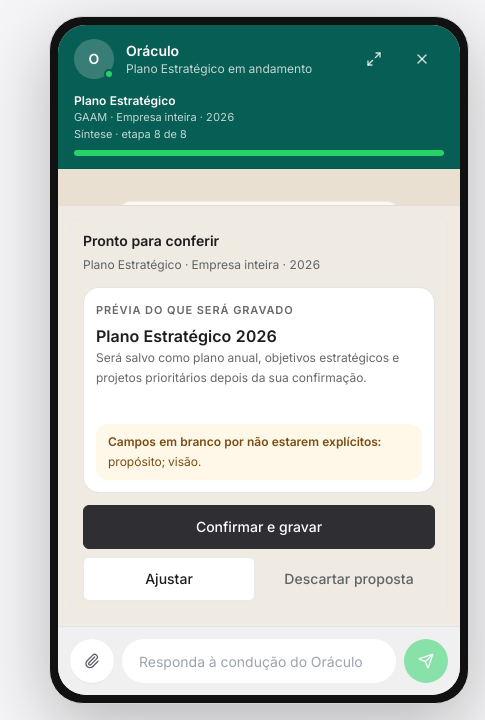
Test: OraclePanel recovery › mostra sucesso e o documento retornado pelo servidor
The image size is (485, 720).
Click the button "Confirmar e gravar": [259, 527] box [83,505,435,549]
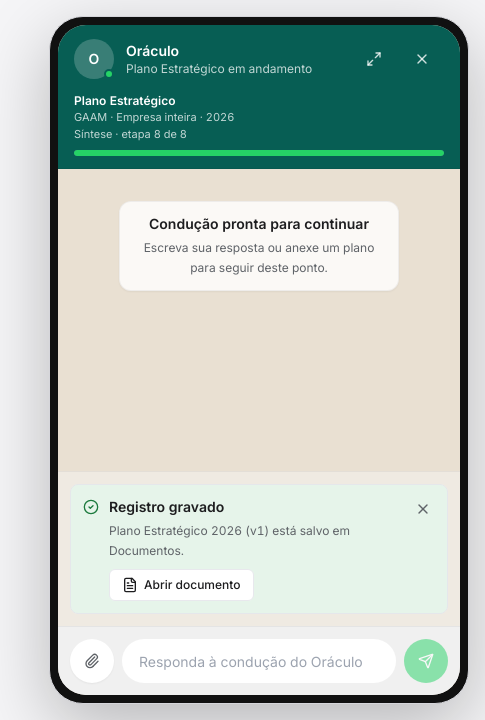
Now the message shows "Registro gravado", box [109,498,224,515]
Now the button "Abrir documento" is shown, box [109,569,254,601]
Now the button "Confirmar e gravar" is gone
